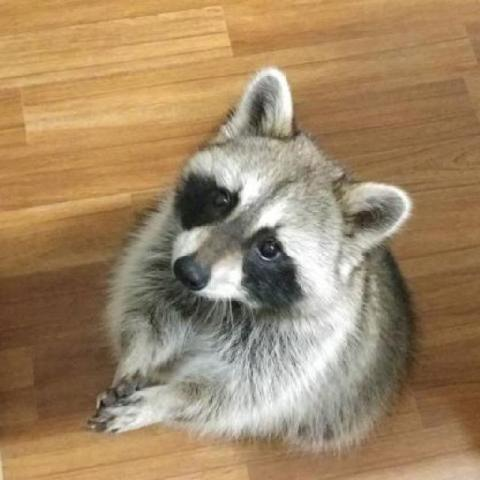small_animal: (85, 65, 420, 454)
